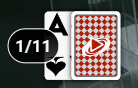a: (44, 11, 71, 39)
